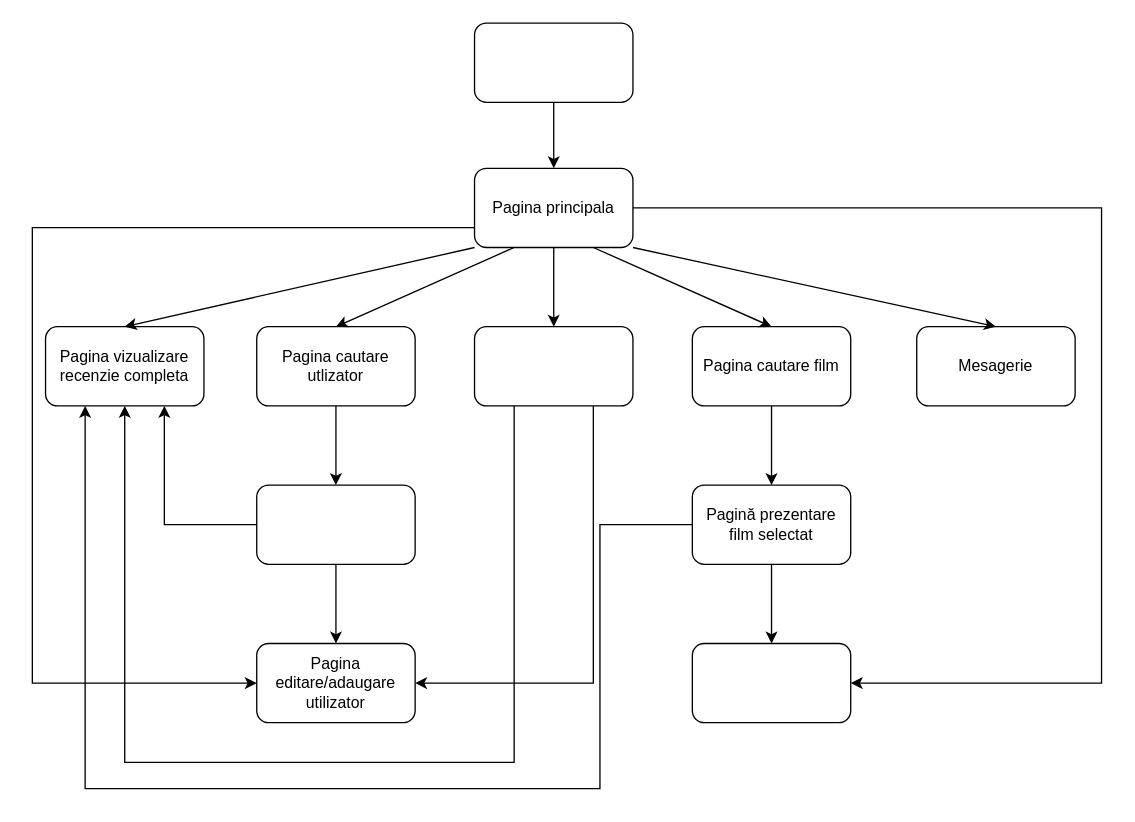
Some shapes in this 1135 by 822 pixel diagram are drawn without their labels. The box of each missing label's shape, as (x1, y1, x2, y2) in pixels:
Autentificare: (473, 22, 633, 102)
Pagina editare/adaugare film: (691, 642, 851, 723)
Pagina vizualizare profil utilizator selectat: (255, 484, 415, 564)
Vizualizare profil personal: (473, 325, 633, 406)
